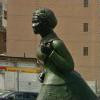Statue: (25, 3, 95, 100)
